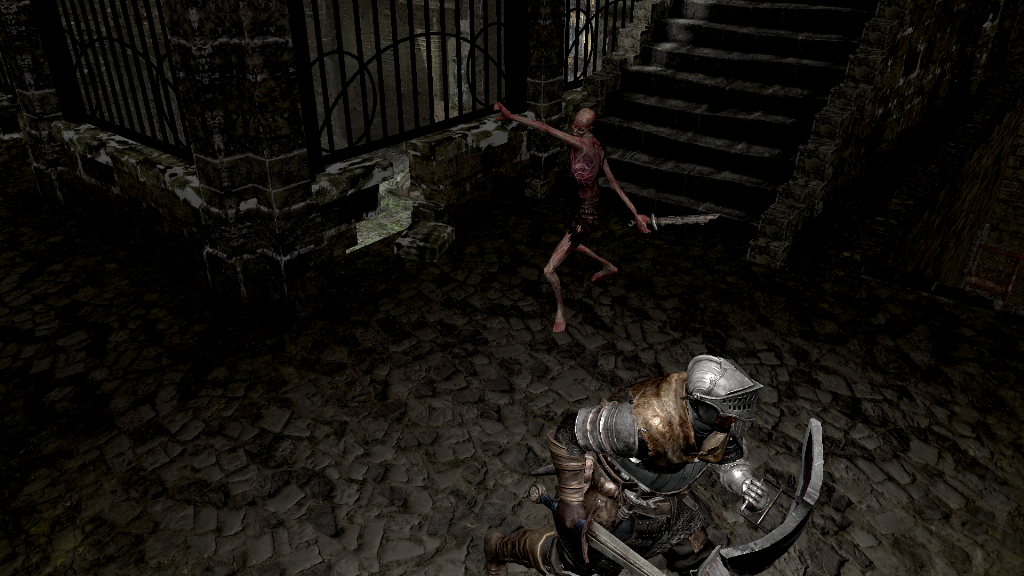hollow: (492, 98, 653, 333)
player: (482, 355, 825, 576)
